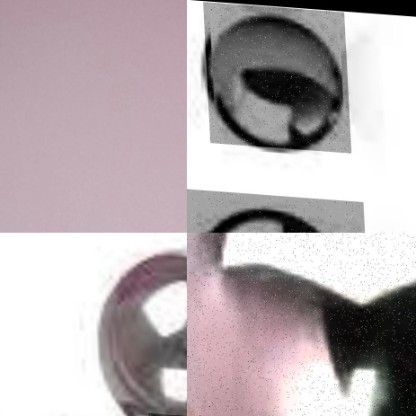ironball: (186, 232, 415, 415), (203, 0, 349, 149), (90, 245, 186, 414), (186, 186, 368, 232)
